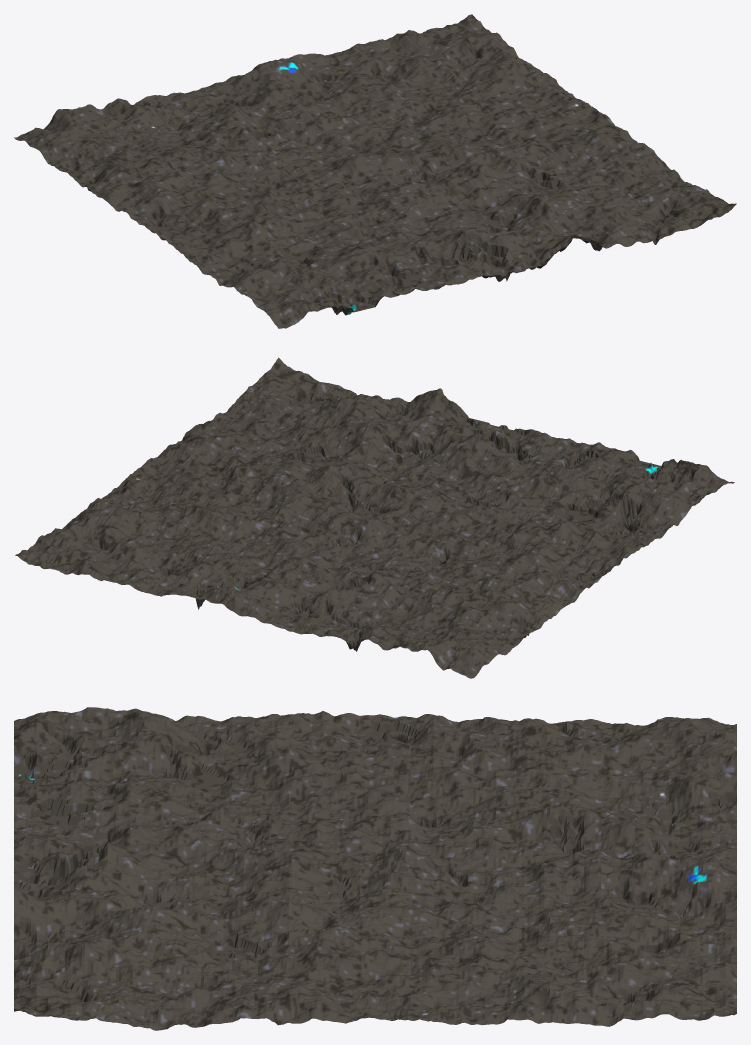
File: terrain_FIRE.obj
The picture shows the model from 3 angles, top to bottom: view 1: azimuth 30°, elevation 25°; view 2: azimuth 150°, elevation 25°; view 3: azimuth 270°, elevation 25°; orthographic projection. The views are drawn at different scales.
Parts seen in each view (by area): view 1: FIRE; view 2: FIRE; view 3: FIRE.
Part boxes in pixels (box(x1,y1,x2,y2)): FIRE: box(14, 14, 736, 328); FIRE: box(15, 357, 734, 678); FIRE: box(14, 707, 736, 1030).
Size of the model in its own units: 255 by 25.63 by 255.
Materials: 1 (1 with a texture image).
